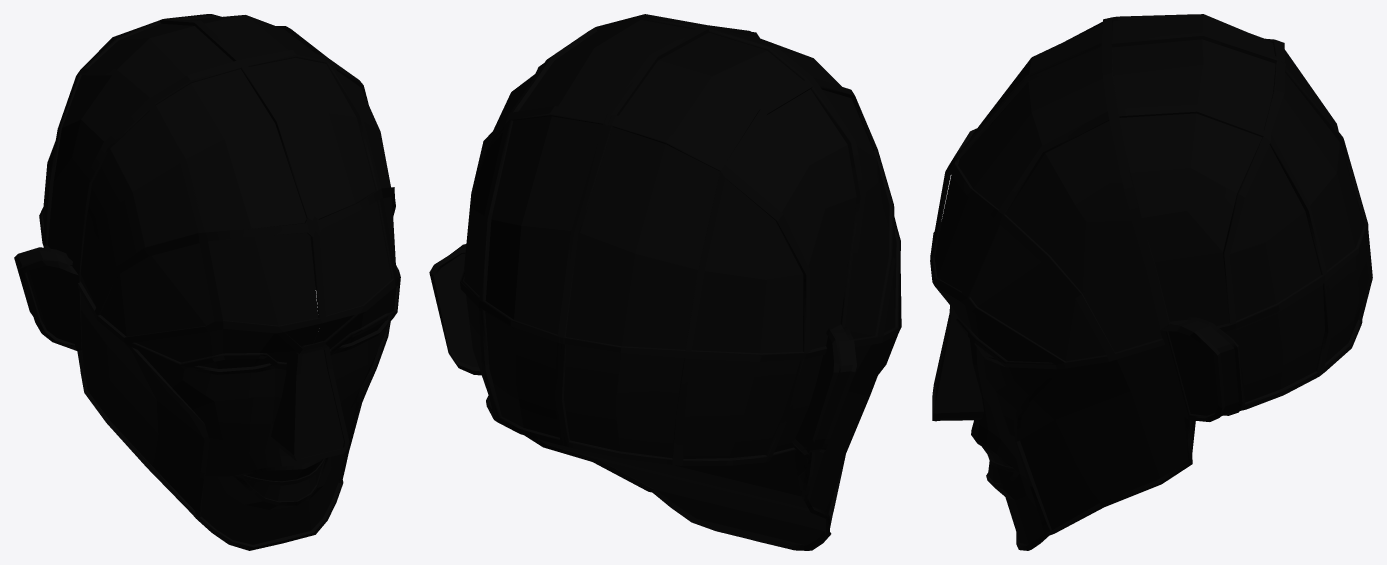
Rendered from CA_Head_Art.fbx.
3 renders of one model, left to right at view 1: azimuth 30°, elevation 25°; view 2: azimuth 150°, elevation 25°; view 3: azimuth 270°, elevation 25°, orthographic. The views are drawn at different scales.
Parts seen in each view (by area): view 1: CA_Head; view 2: CA_Head; view 3: CA_Head.
Boxes of the visible parts, x1,y1,x2,y2 form: CA_Head: (14, 14, 400, 550); CA_Head: (429, 14, 901, 550); CA_Head: (930, 14, 1372, 550).
Size of the model in its own units: 0.8744 by 1.12 by 0.8976.
